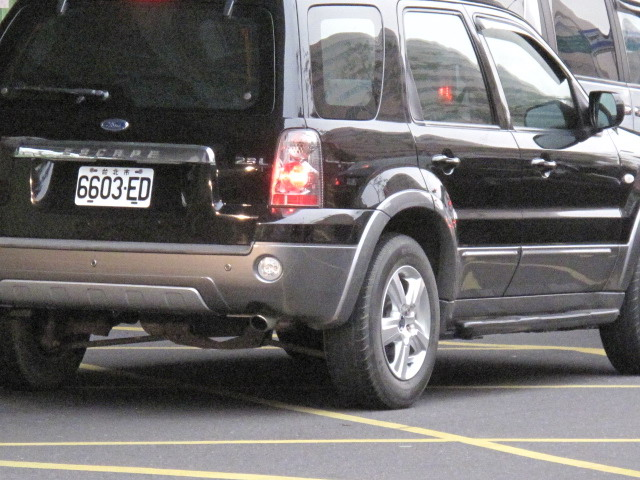plate: (72, 163, 158, 209)
